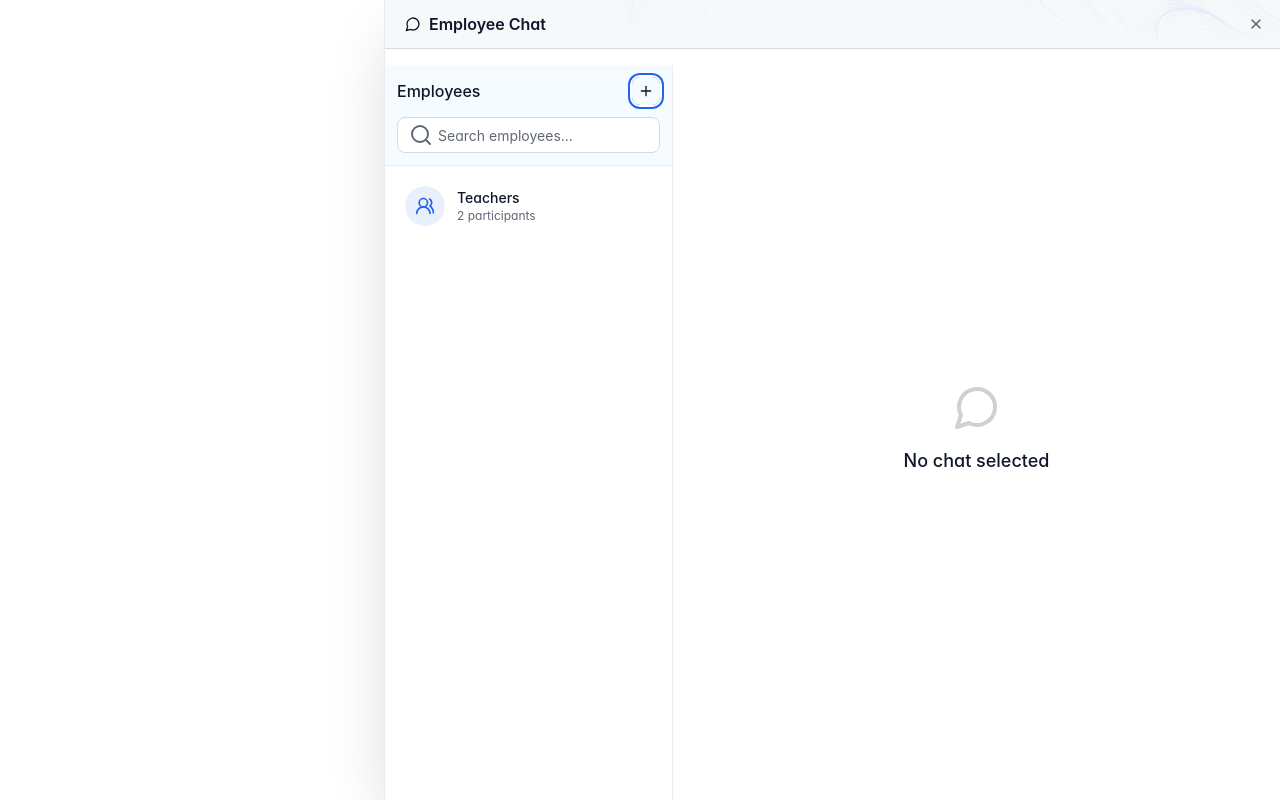
Test case: lets a regular participant leave but hides management controls
The image size is (1280, 800).
Click the button "Teachers 2 participants": (528, 206) [393, 174, 664, 238]
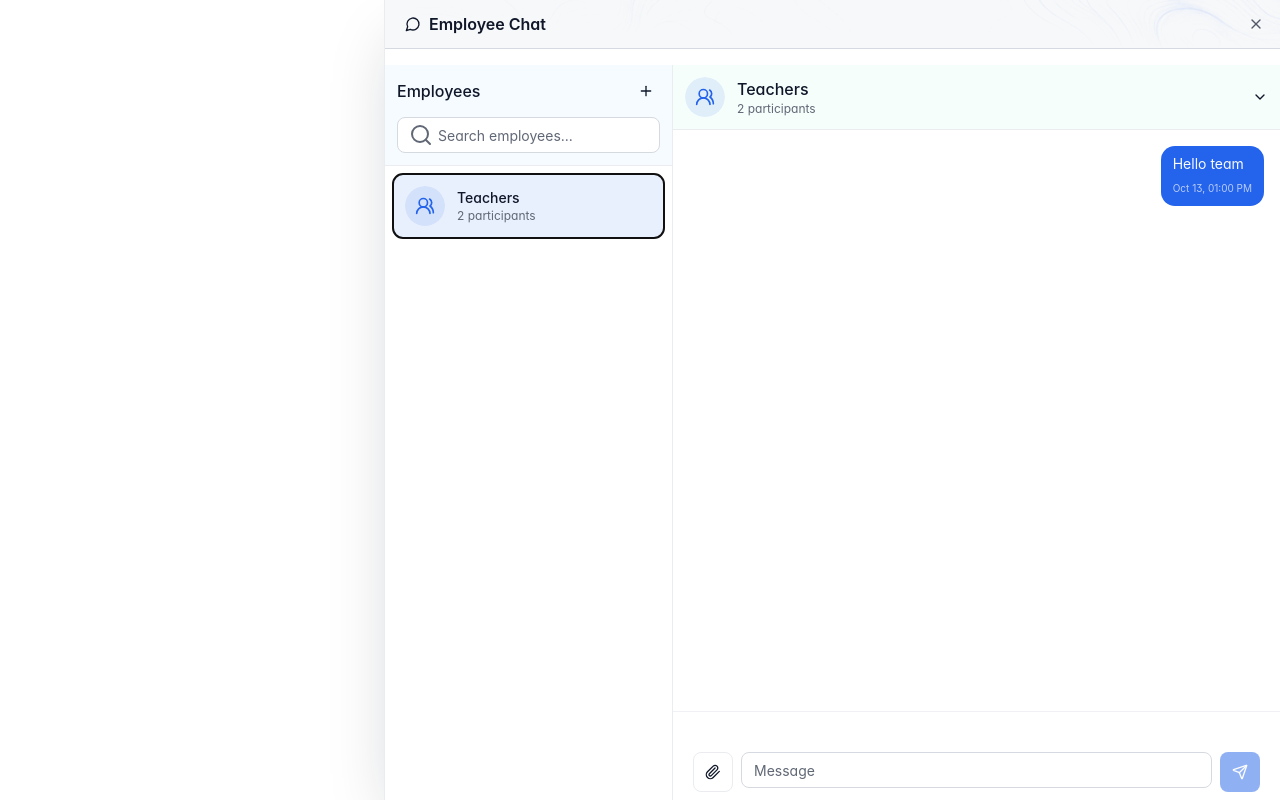
Click the button with aria-label "Group details": (705, 97) [673, 65, 1279, 130]
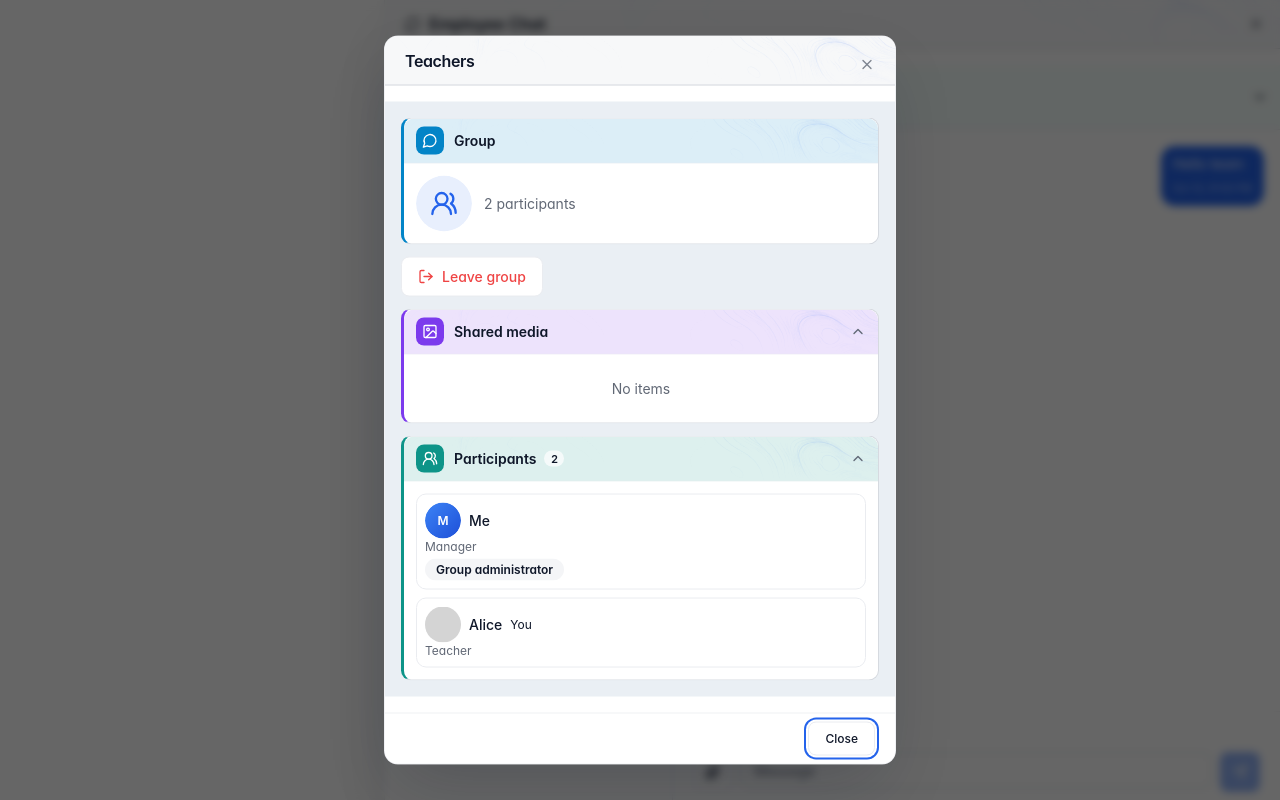
Now the text "Alice" is shown, box [469, 614, 502, 634]
Click the button "Leave group": (472, 276) [401, 256, 543, 296]
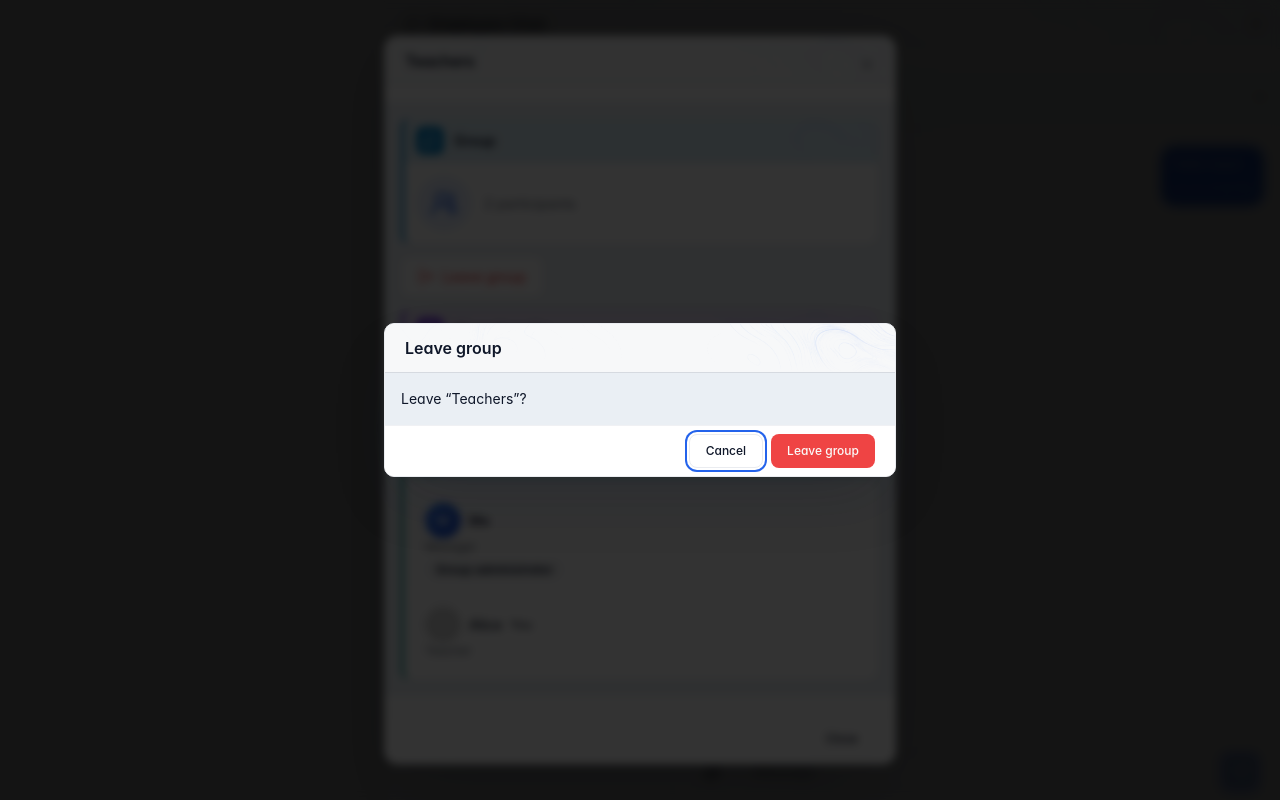
Click the button "Cancel": (726, 451) [689, 434, 763, 468]
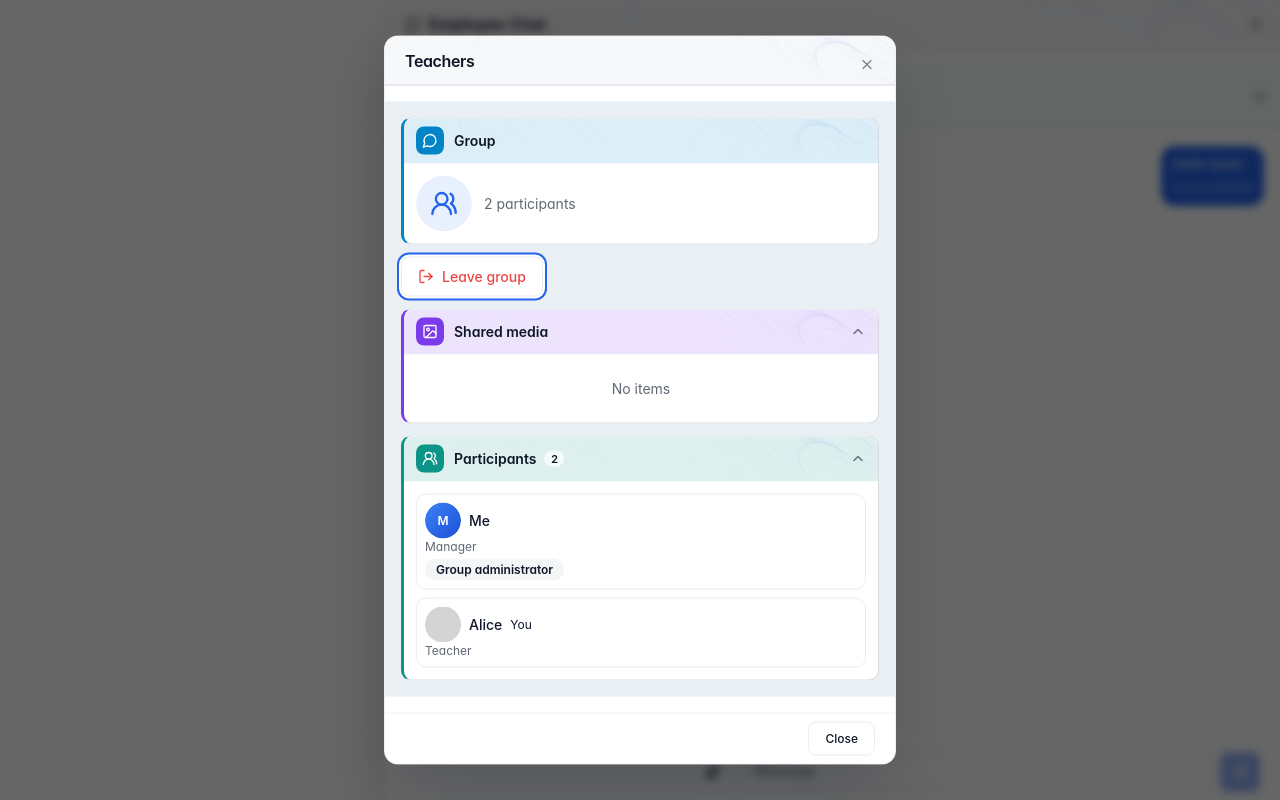
Click the button "Leave group": (472, 276) [401, 256, 543, 296]
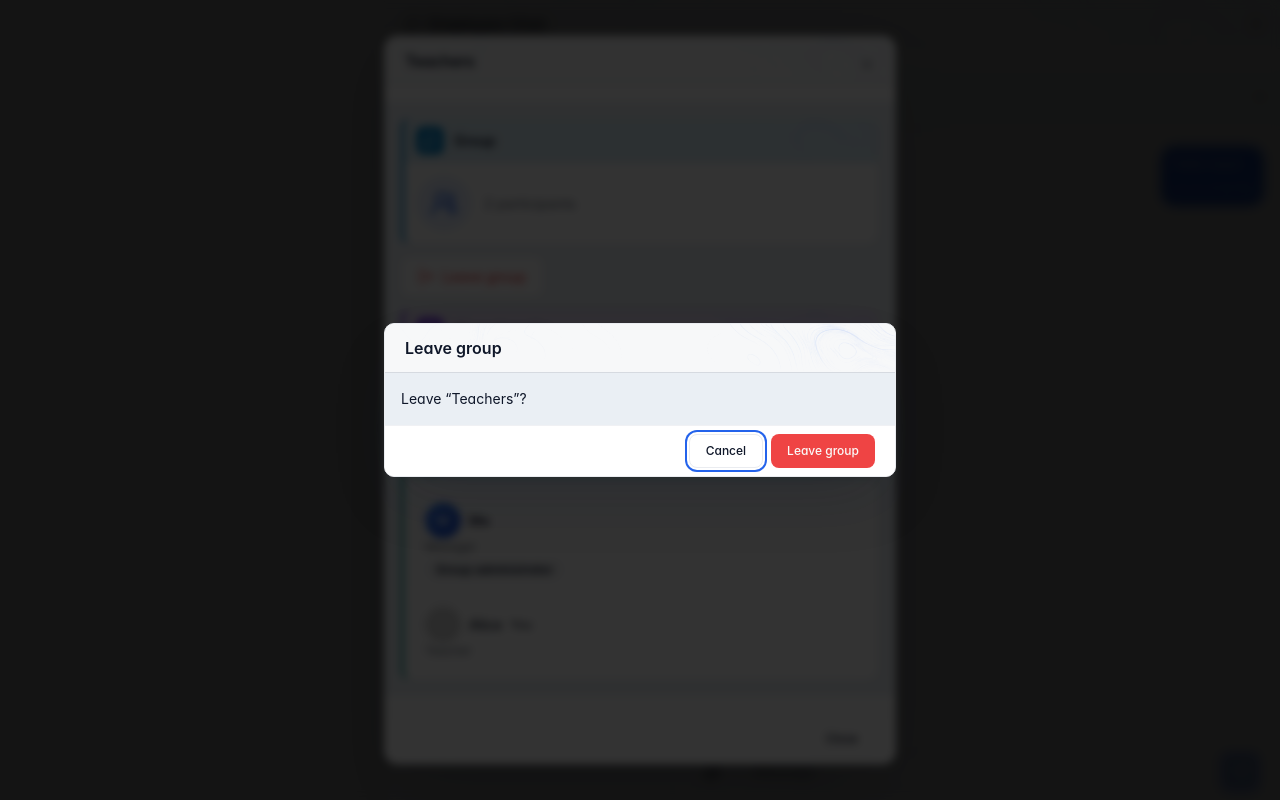
Click the button "Leave group": (823, 451) [771, 434, 875, 468]
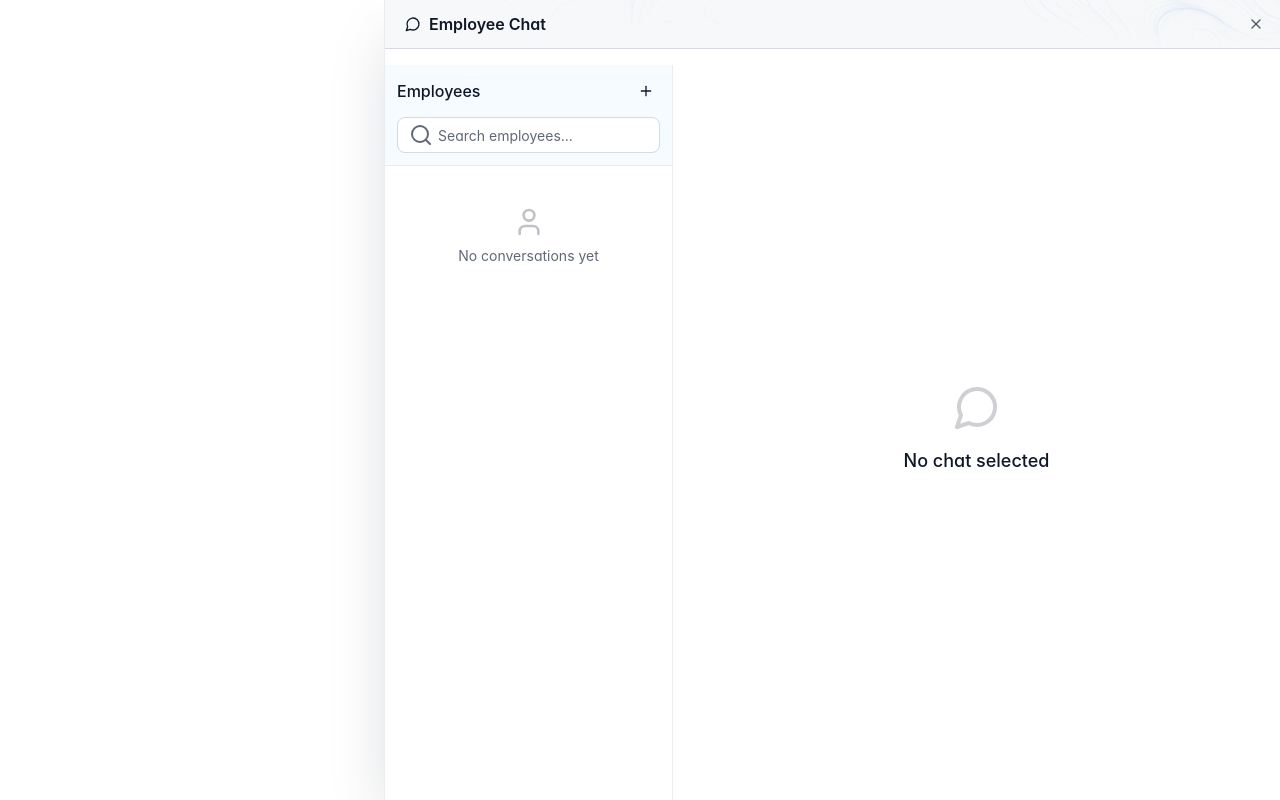
Now the button "Teachers" is gone
